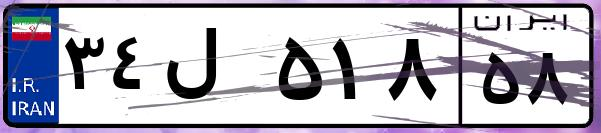1: (330, 28, 385, 110)
3: (57, 26, 110, 100)
4: (110, 28, 158, 98)
5: (270, 28, 330, 110), (475, 38, 525, 113)
8: (385, 28, 445, 110), (525, 38, 570, 115)
ل: (158, 20, 270, 120)
